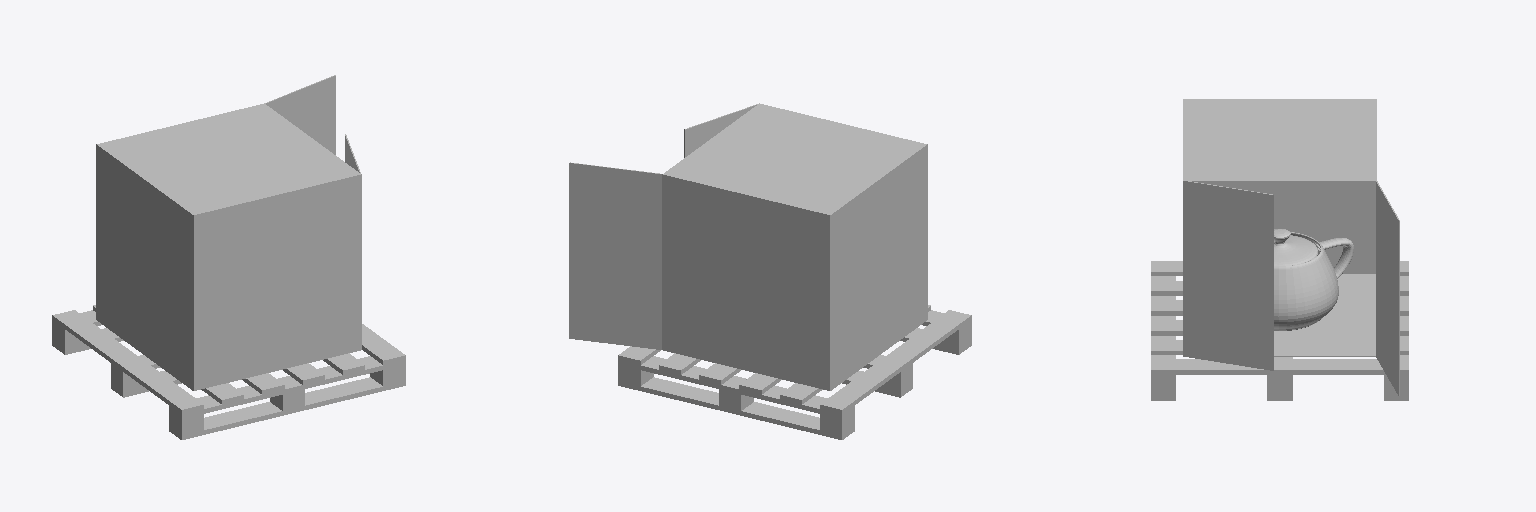
File: palette_teapot.obj
The picture shows the model from 3 angles: view 1: azimuth 30°, elevation 25°; view 2: azimuth 150°, elevation 25°; view 3: azimuth 270°, elevation 25°; orthographic projection.
Visible parts, largest first — view 1: Box_Cube.005, Cube, Cube.003_Cube.004, Cube.002_Cube.003, Cube.001; view 2: Box_Cube.005, Cube, Cube.003_Cube.004, Cube.002_Cube.003, Cube.001; view 3: Box_Cube.005, Cube, teapot, Cube.002_Cube.003, Cube.001.
Part boxes in pixels (x1,y1,x2,y2): Box_Cube.005: (96, 75, 361, 390); Cube: (52, 305, 405, 414); Cube.003_Cube.004: (52, 328, 405, 439); Cube.002_Cube.003: (52, 325, 405, 435); Cube.001: (52, 310, 405, 418); Box_Cube.005: (569, 103, 927, 390); Cube: (618, 305, 971, 414); Cube.003_Cube.004: (618, 328, 971, 439); Cube.002_Cube.003: (618, 325, 971, 435); Cube.001: (618, 310, 971, 418); Box_Cube.005: (1183, 99, 1399, 395); Cube: (1151, 261, 1408, 374); teapot: (1274, 229, 1353, 330); Cube.002_Cube.003: (1151, 380, 1408, 395); Cube.001: (1151, 276, 1408, 379).
Size of the model in its own units: 2.48 by 1.76 by 2.